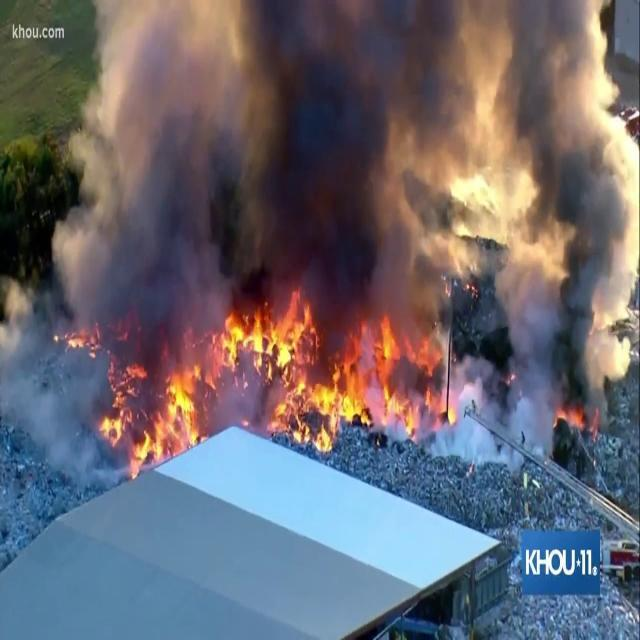Fire: (218, 282, 437, 446), (96, 351, 210, 468)
Smoke: (21, 0, 634, 420)
